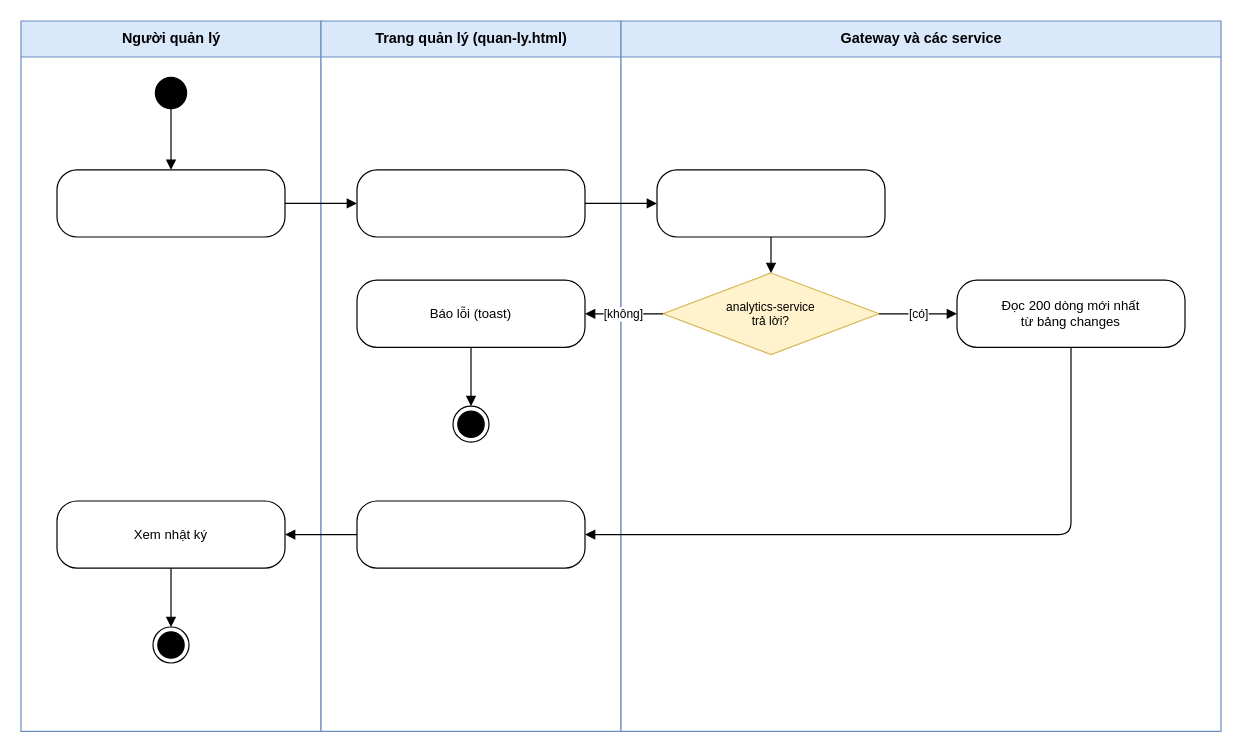
Image size: 1242x752. Some labels were removed from this diagram. Here are the shapes that lost their labels. From the top down, the centre of each, then its label:
(x=170, y=203): Chọn tab "Nhật ký" hoặc bấm "Làm mới"
(x=470, y=203): Gửi GET /api/admin/changes
(x=770, y=203): Gateway kiểm mật khẩu, chuyển tới analytics-service
(x=470, y=534): Vẽ bảng: giờ, hành động, đối tượng, chi tiết
